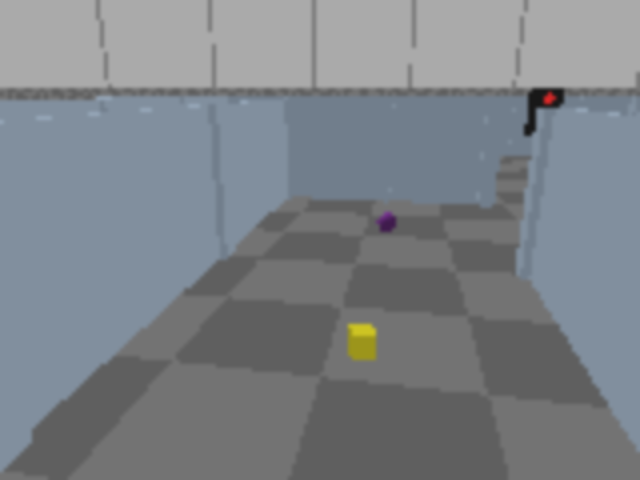puck: (348, 323, 376, 359), (377, 211, 398, 234)
